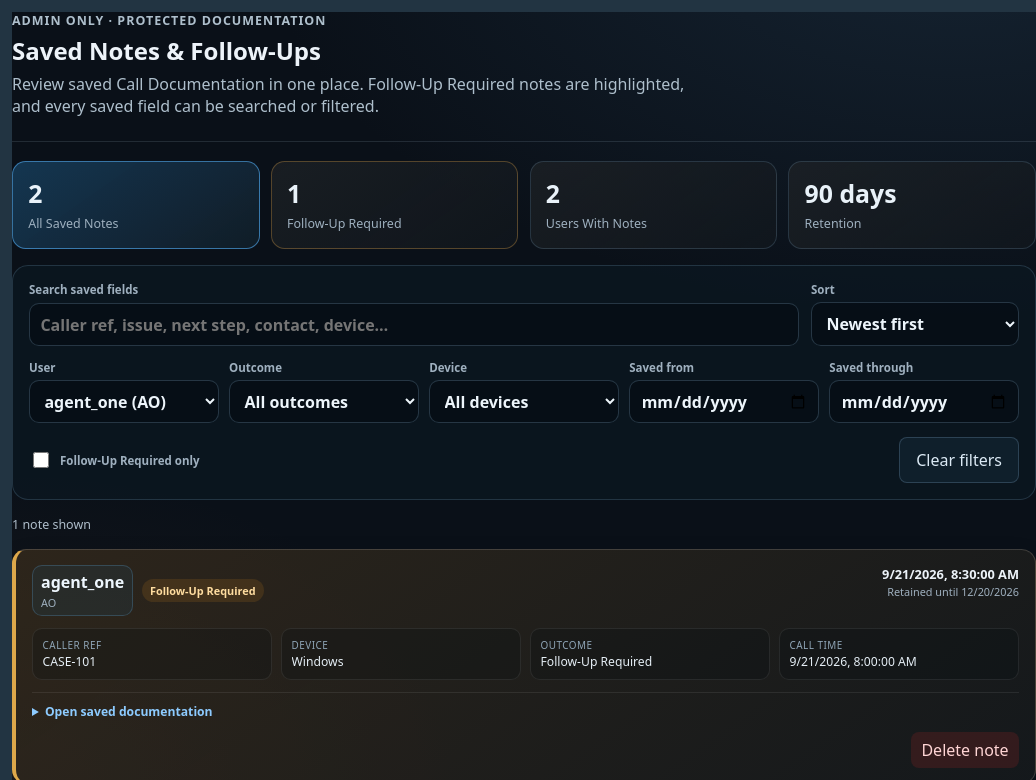
Test case: opens prefiltered for a clicked person and allows changing the user filter
Expected: the text "CASE-101" is shown, x1=43 y1=653 x2=96 y2=670
Expected: the text "CASE-202" is not shown
Select "agent_two (AT)" in the dropdown labelled "User" at (124,402), box x1=29 y1=380 x2=219 y2=423
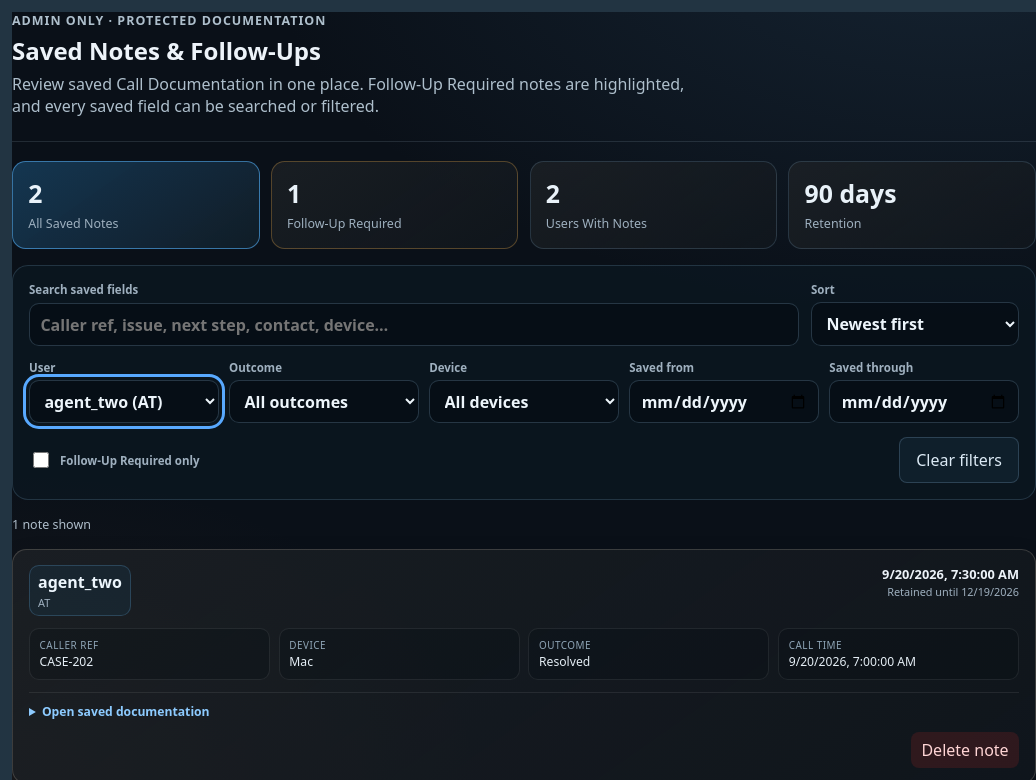
Result: the text "CASE-202" is shown at x1=40 y1=653 x2=93 y2=670
Result: the text "CASE-101" is gone
